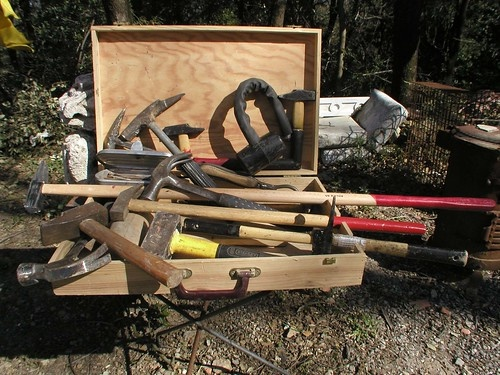hammer: (38, 202, 186, 293), (312, 199, 471, 273), (140, 207, 293, 268), (122, 93, 217, 190), (144, 150, 286, 212), (23, 160, 152, 211)
